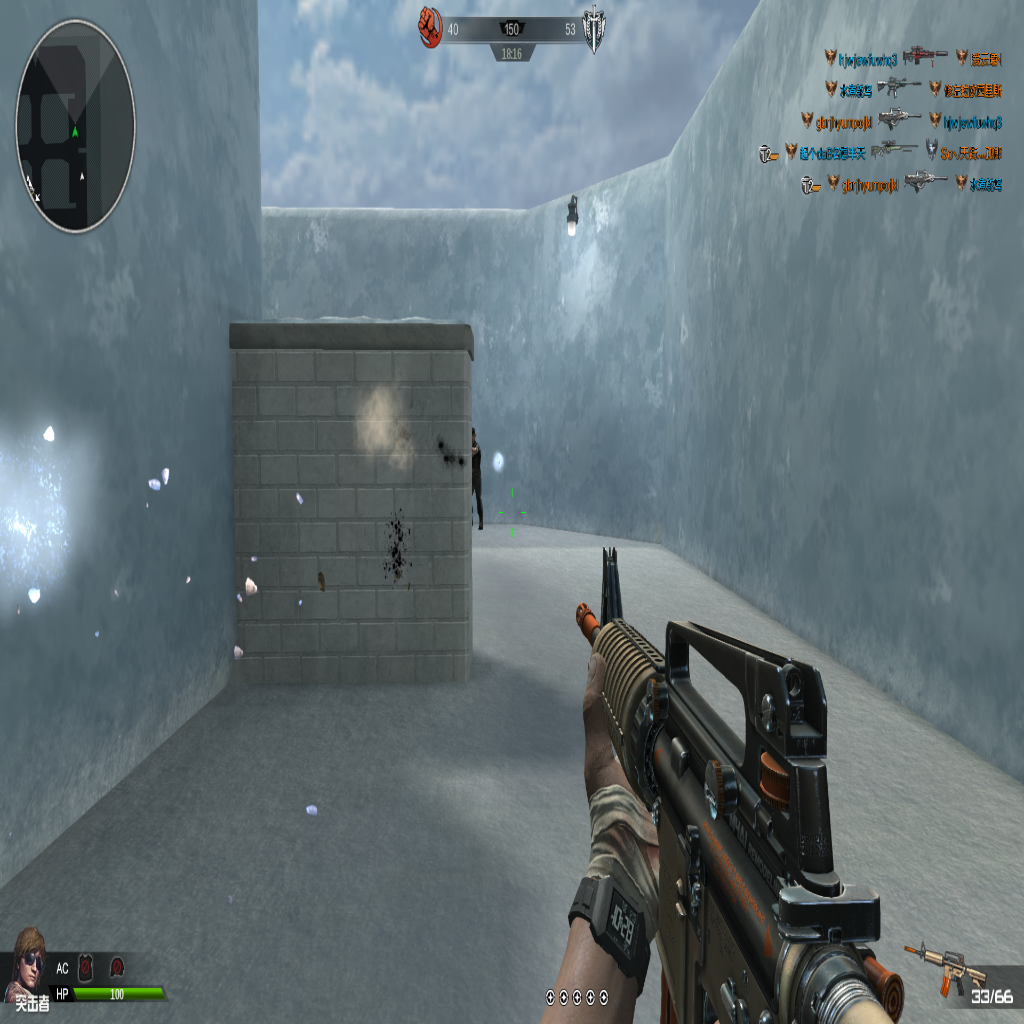ct: (470, 414, 483, 543)
